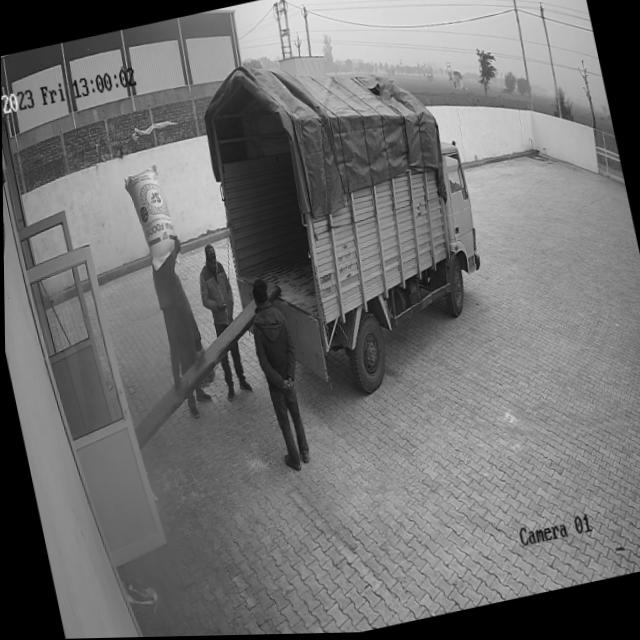sack: (121, 163, 181, 275)
